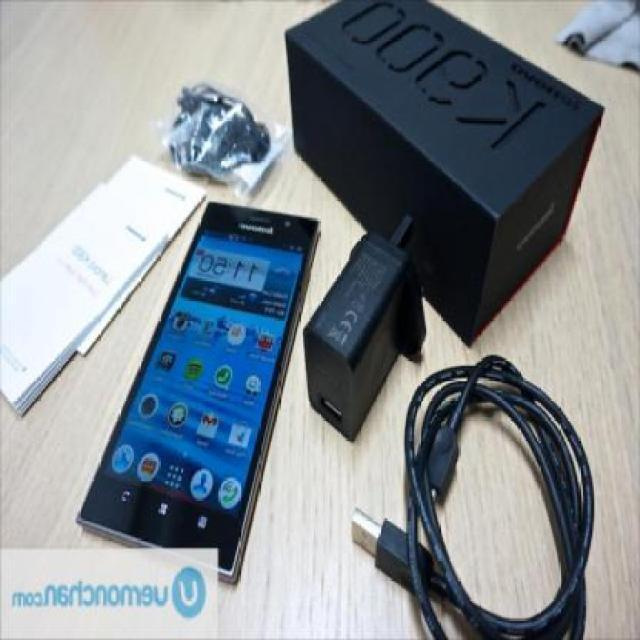phone: (79, 187, 327, 569)
